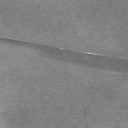finishing roll printing: (0, 35, 128, 73)
